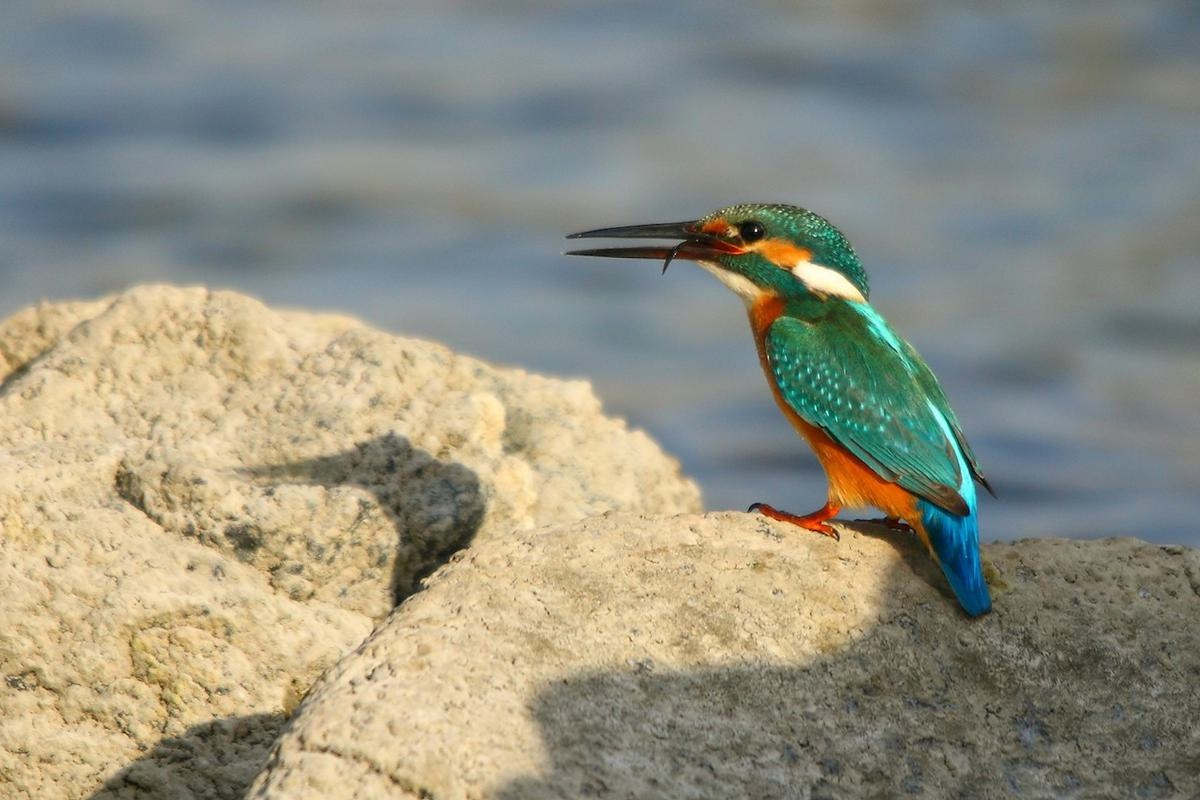kingfisher: (564, 199, 1007, 619)
